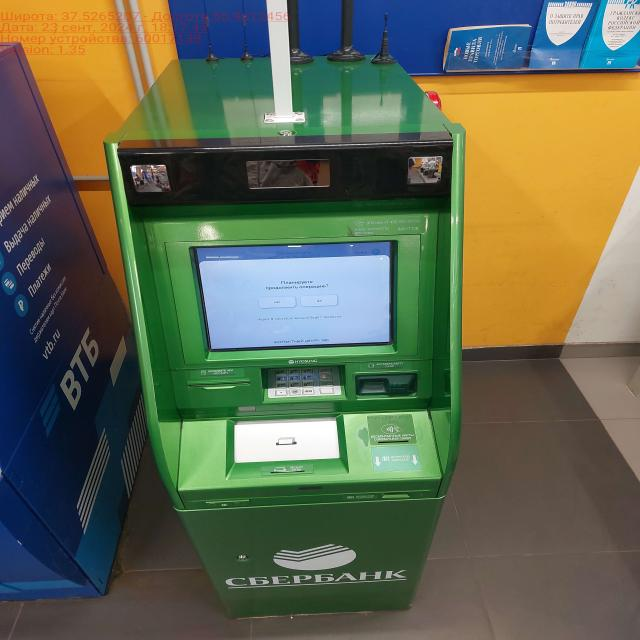bank: (107, 58, 467, 625)
